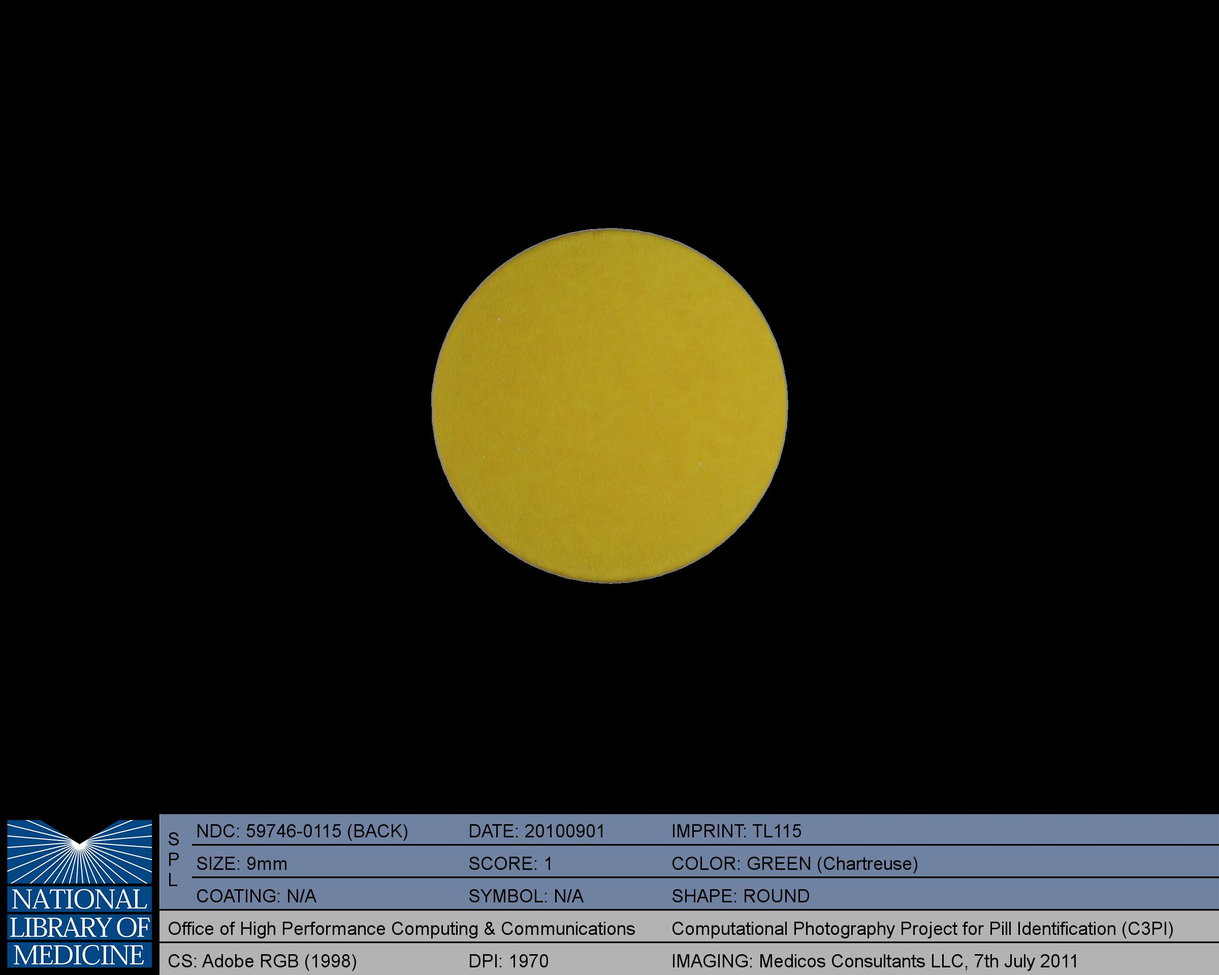Pill: (418, 218, 797, 594)
